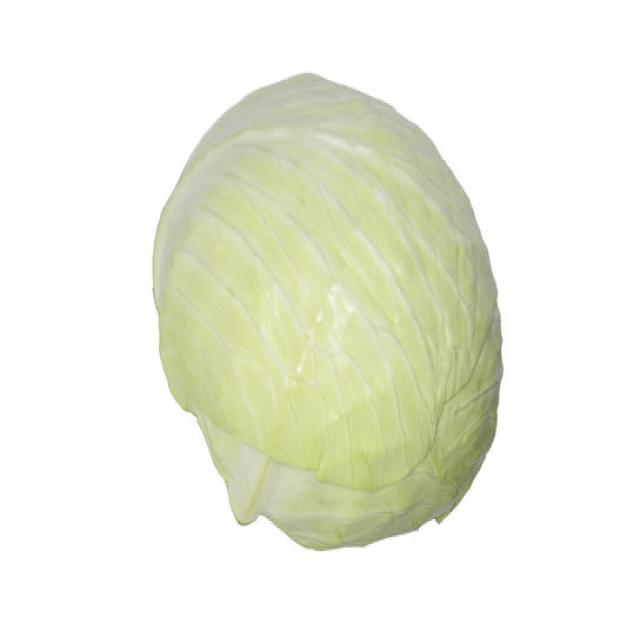Cabbage: (151, 69, 504, 551)
